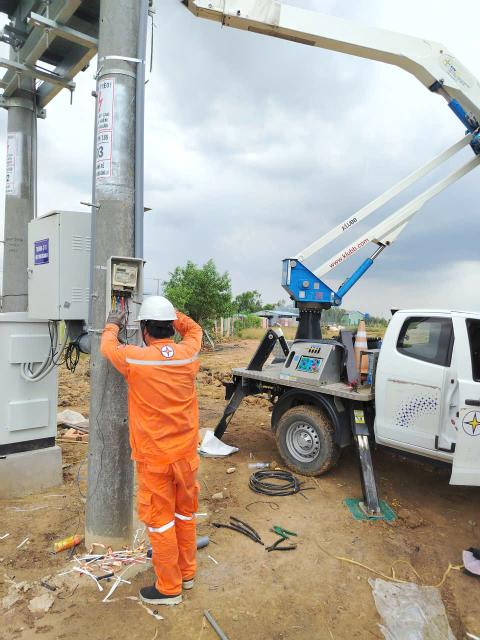gloves: (104, 304, 125, 327)
helmet: (133, 288, 181, 330)
shoes: (136, 579, 186, 609)
